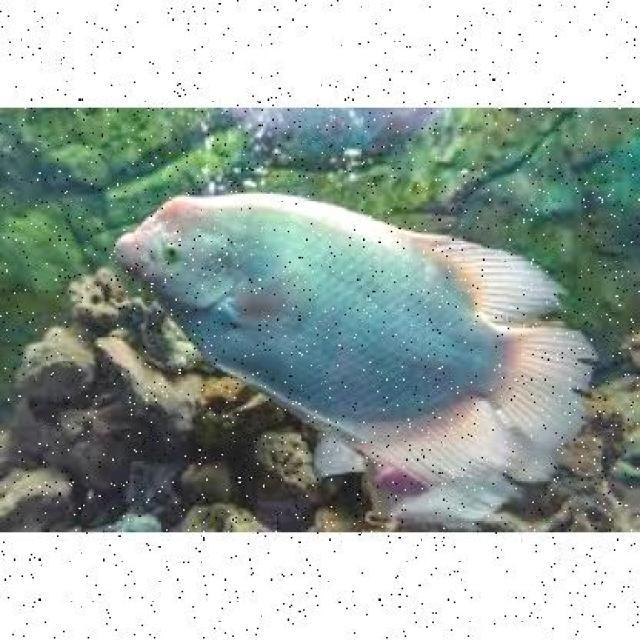gurame: (114, 190, 591, 475)
